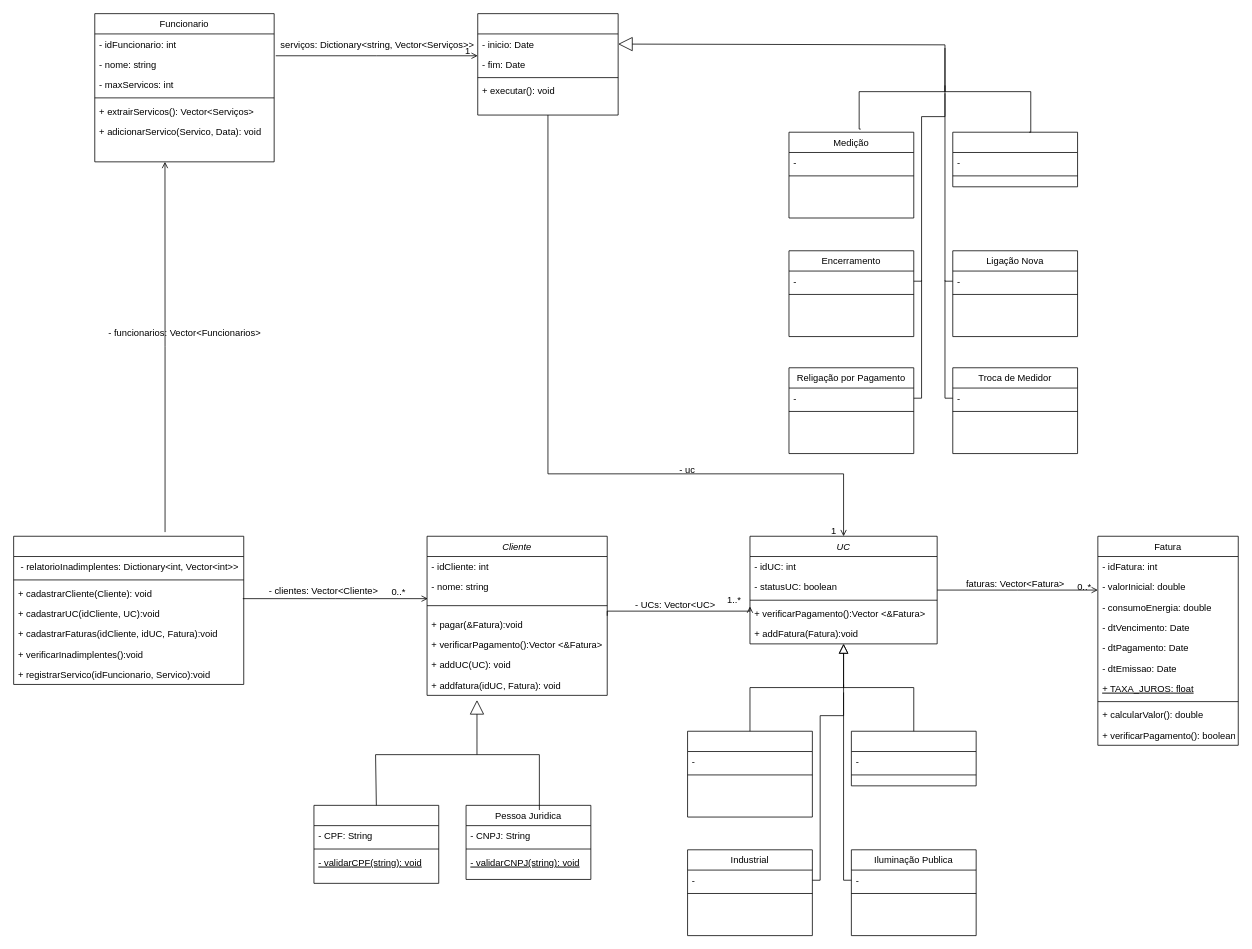
Some shapes in this 1252 by 949 pixel diagram are drawn without their labels. Each missing label, with the box of its shape:
Comercial: (851, 730, 976, 786)
Gerencia: (13, 535, 244, 684)
Inadimplência: (952, 131, 1078, 187)
Pessoa Fisica: (313, 805, 439, 883)
Residencial: (687, 730, 812, 817)
Servico: (477, 13, 618, 115)
